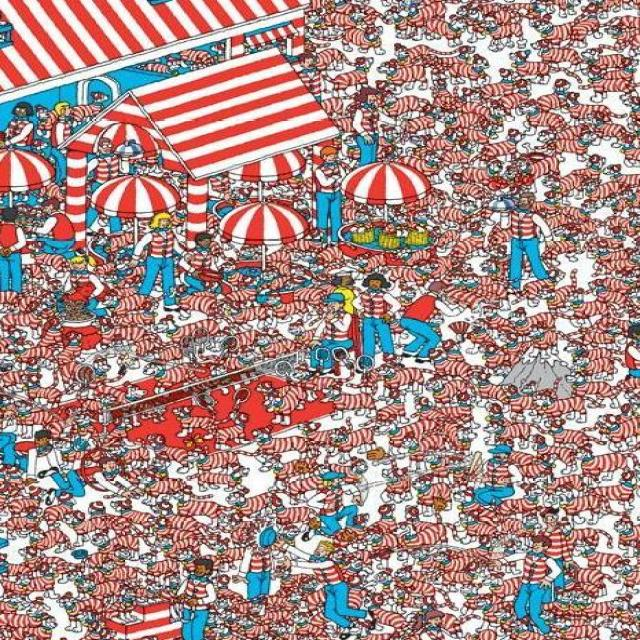waldo: (537, 506, 558, 528)
